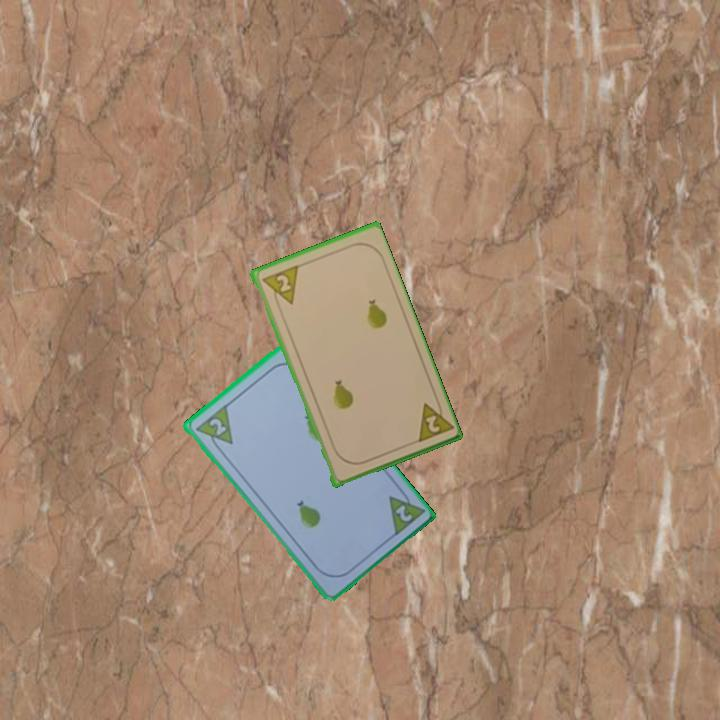2p: (191, 402, 236, 455), (257, 262, 301, 311), (411, 395, 454, 445), (391, 501, 415, 525)
